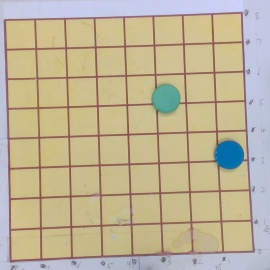blue: (214, 140, 244, 170)
green: (151, 84, 181, 113)
